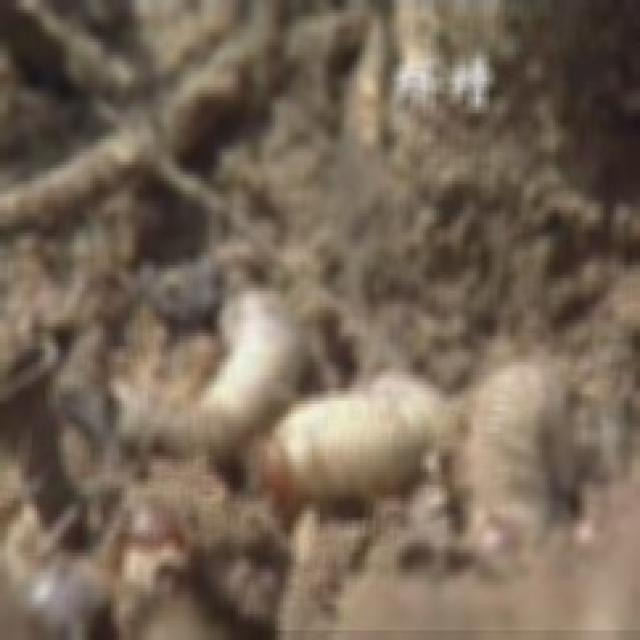grub: (462, 346, 587, 556), (143, 287, 293, 452), (243, 375, 447, 488)
